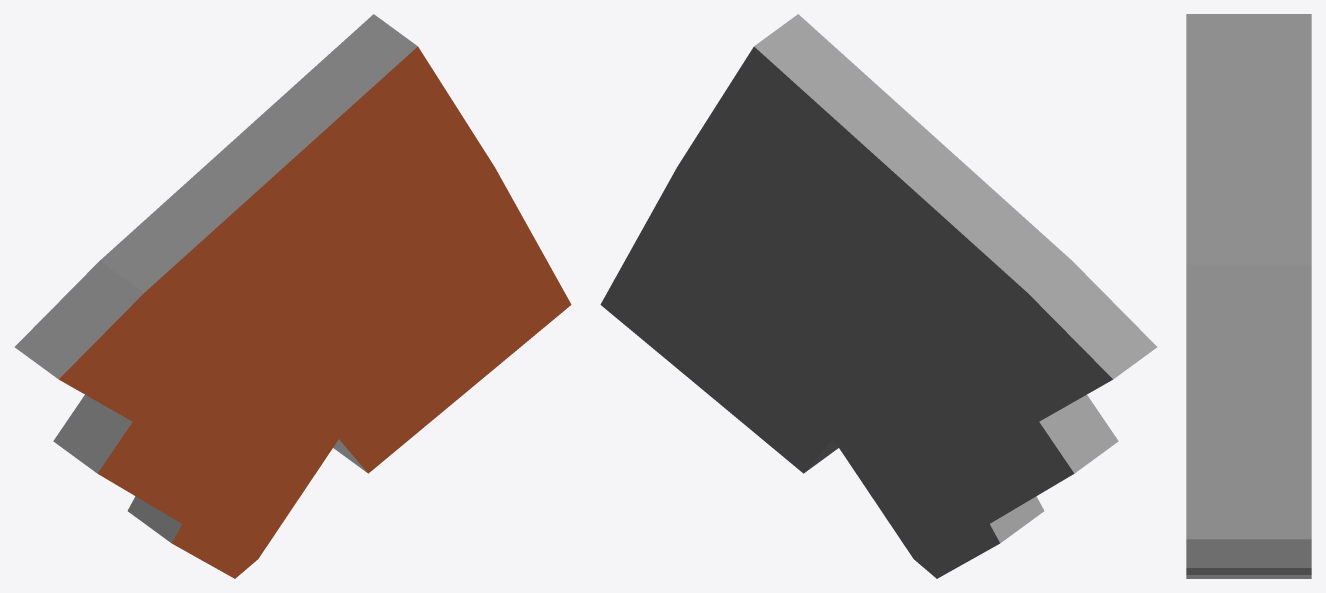
File: construction_2144_assumed_A_Casa_h6m.obj
3 renders of one model, left to right at view 1: azimuth 30°, elevation 25°; view 2: azimuth 150°, elevation 25°; view 3: azimuth 270°, elevation 25°, orthographic. The views are drawn at different scales.
Parts seen in each view (by area): view 1: construction_2144_assumed_A_Casa; view 2: construction_2144_assumed_A_Casa; view 3: construction_2144_assumed_A_Casa.
Part boxes in pixels (x1,y1,x2,y2): construction_2144_assumed_A_Casa: (14, 14, 571, 578); construction_2144_assumed_A_Casa: (600, 14, 1157, 578); construction_2144_assumed_A_Casa: (1186, 14, 1311, 578).
Bounding box in the file's own units: 40.13 × 36.48 × 6.
